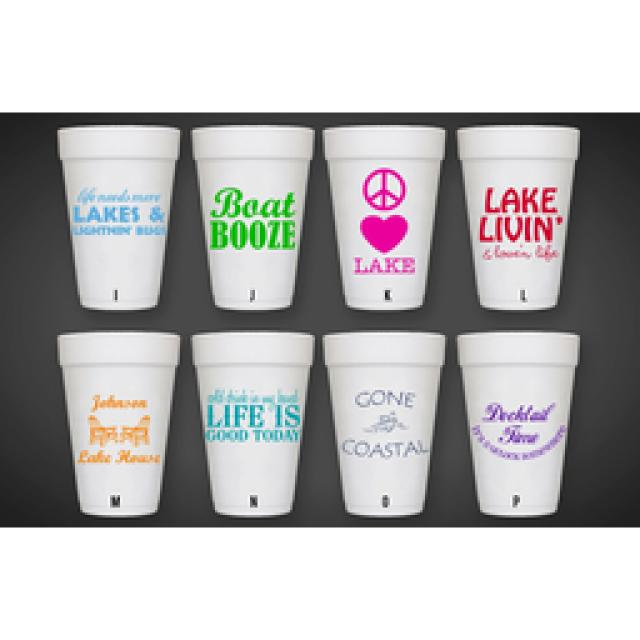styrofoam: (190, 332, 312, 515), (322, 125, 442, 308), (322, 332, 442, 515), (58, 125, 178, 308), (192, 125, 312, 308), (458, 125, 578, 305), (458, 332, 578, 512), (58, 332, 178, 512)
